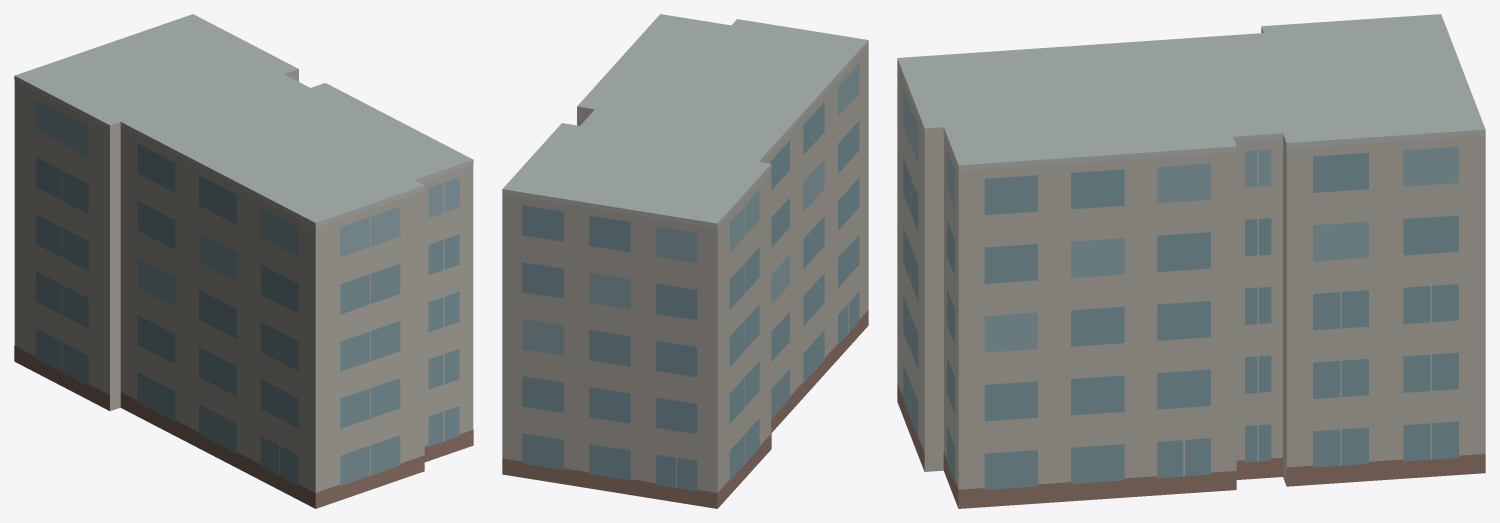
File: survey-upis-32909811.glb
3 views of the same model, side by side, from view 1: azimuth 30°, elevation 25°; view 2: azimuth 150°, elevation 25°; view 3: azimuth 270°, elevation 25° (orthographic). The views are drawn at different scales.
Visible parts, largest first — view 1: survey-upis-32909811.tmp; view 2: survey-upis-32909811.tmp; view 3: survey-upis-32909811.tmp.
Part boxes in pixels (x1,y1,x2,y2): survey-upis-32909811.tmp: (14,14,473,508); survey-upis-32909811.tmp: (502,14,868,508); survey-upis-32909811.tmp: (897,14,1485,508).
Bounding box in the file's own units: 13.15 × 13.9 × 21.59.
